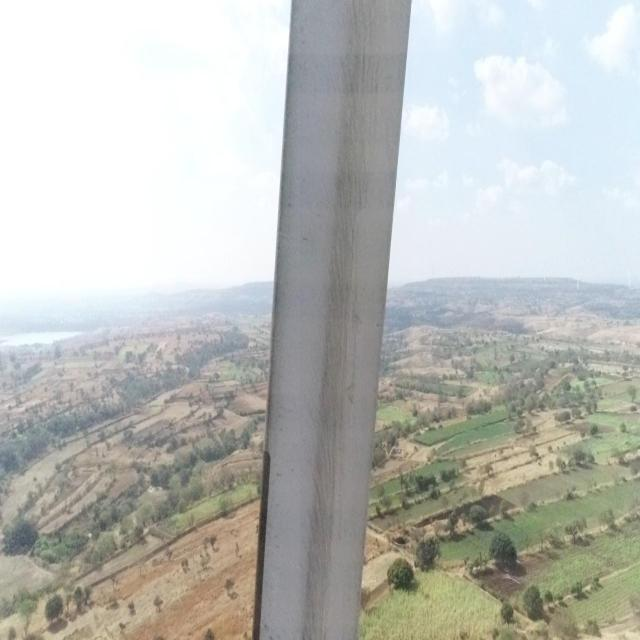Dirt: (249, 0, 407, 640)
